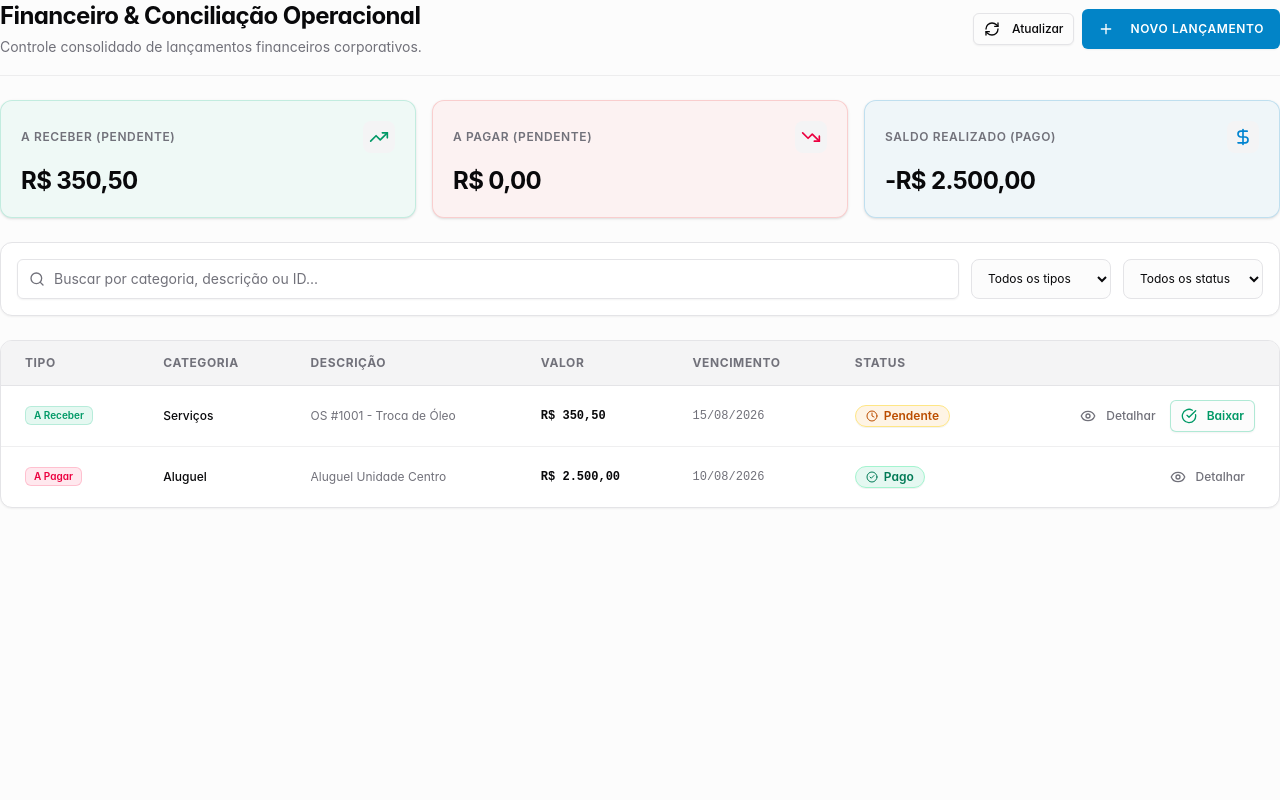
Test: Financial Module (Integrated Management) › 5. should open detail modal upon clicking Detalhar button
Check: the text "OS #1001 - Troca de Óleo" is shown, box [311,408,456,423]
Click the button "Detalhar" in the row of "Serviços" at x=1118, y=416, box [1070,400,1166,432]
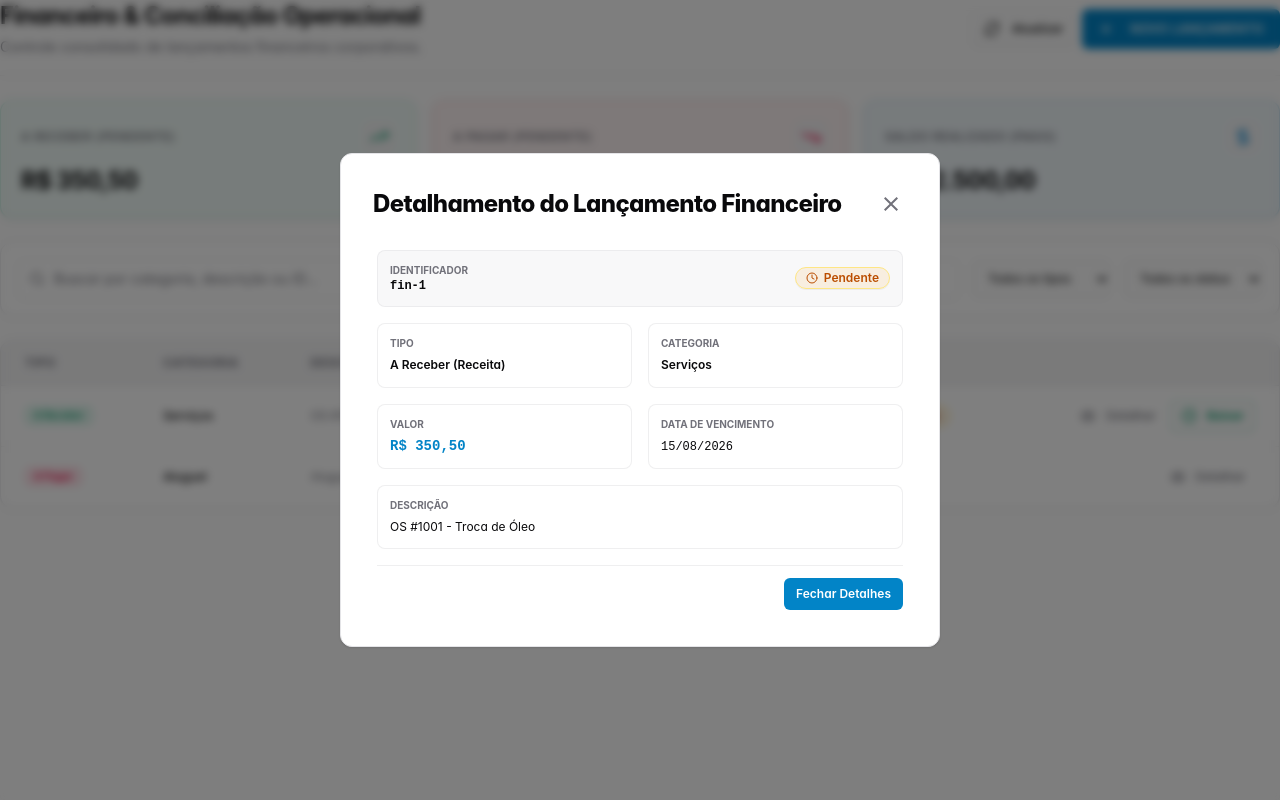
Check: the heading "Detalhamento do Lançamento Financeiro" is shown, box [373,186,842,222]
Check: the text "fin-1" is shown, box [390,279,426,293]
